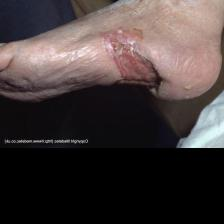Wound: (95, 28, 169, 94)
